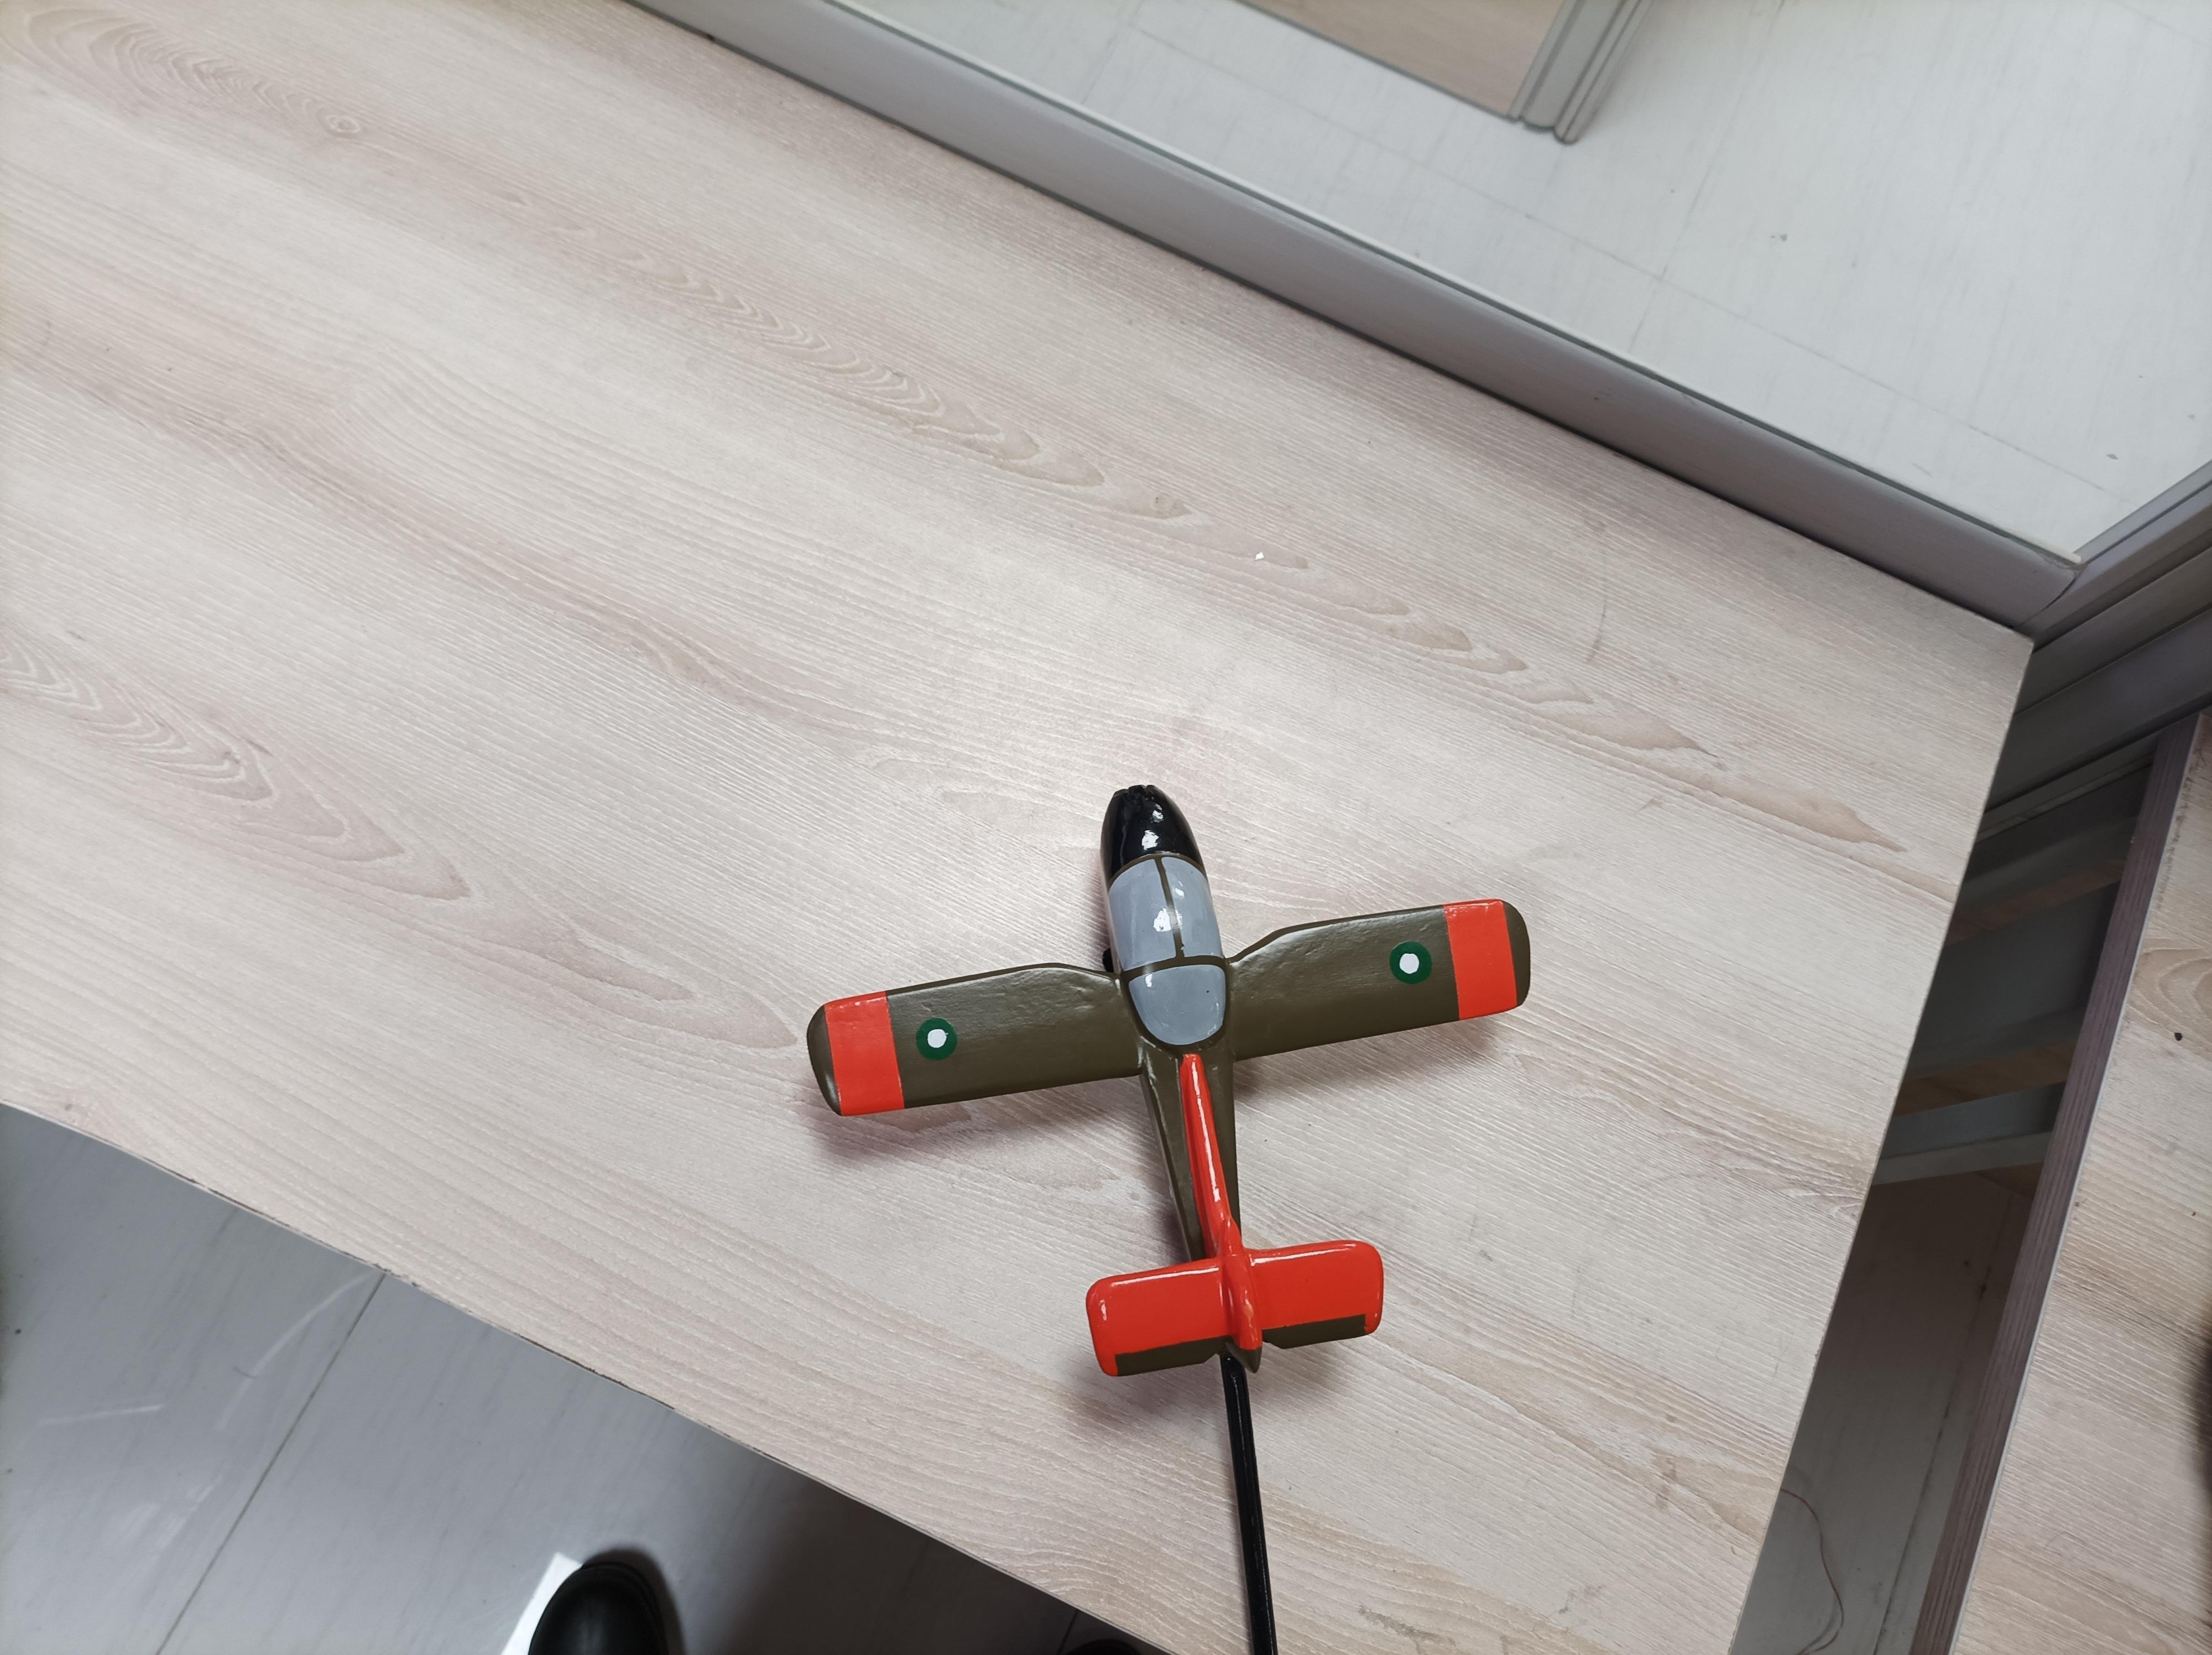Airplane: (785, 767, 1567, 1403)
